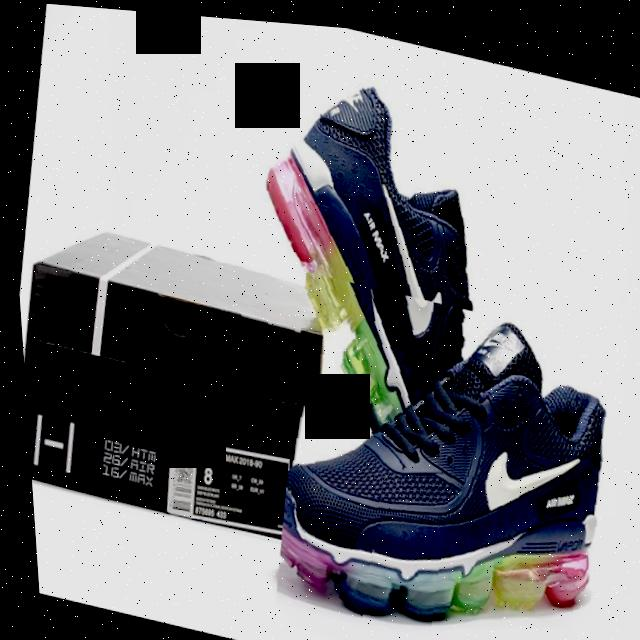shoe: (182, 12, 518, 456), (249, 263, 640, 640)
